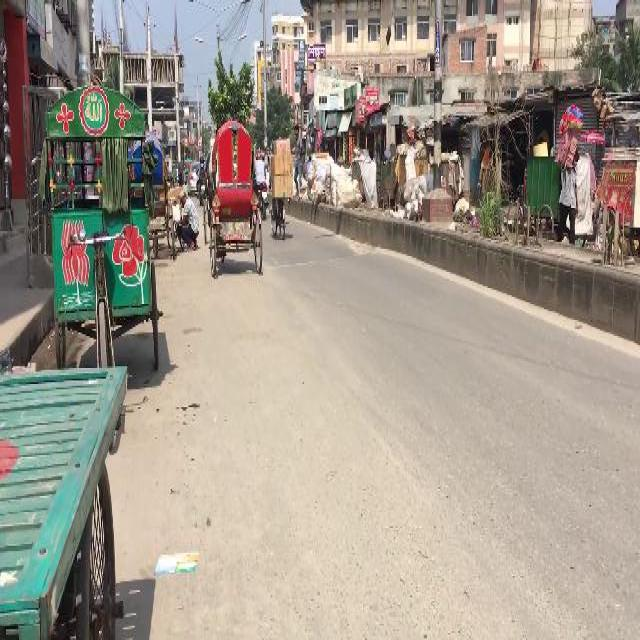10: (255, 149, 267, 217), (196, 156, 204, 200)
13: (210, 121, 260, 274), (132, 137, 174, 258)
5: (187, 161, 197, 195)
Motorcycle: (268, 180, 288, 240)
